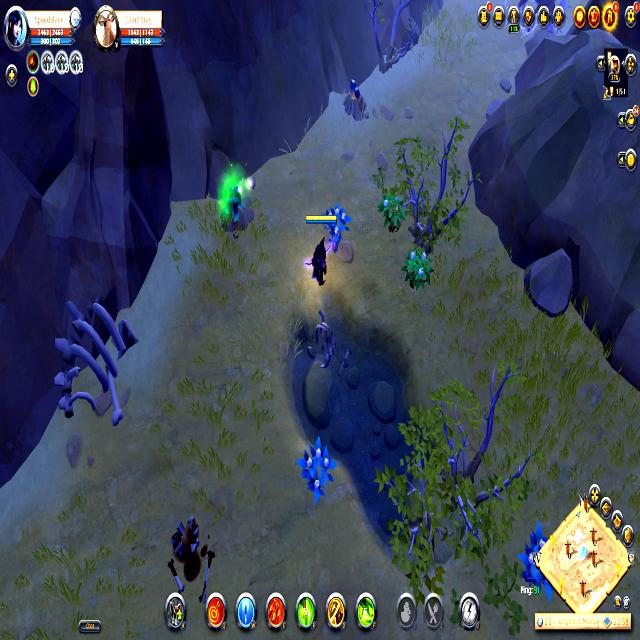hide: (514, 511, 556, 602), (298, 433, 335, 502), (320, 199, 357, 250), (403, 244, 432, 298), (379, 185, 405, 238)
player: (217, 177, 256, 236), (342, 75, 371, 131)
red: (303, 211, 336, 290)
